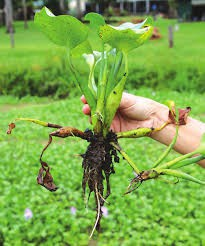water_hyacinth: (32, 6, 153, 125)
